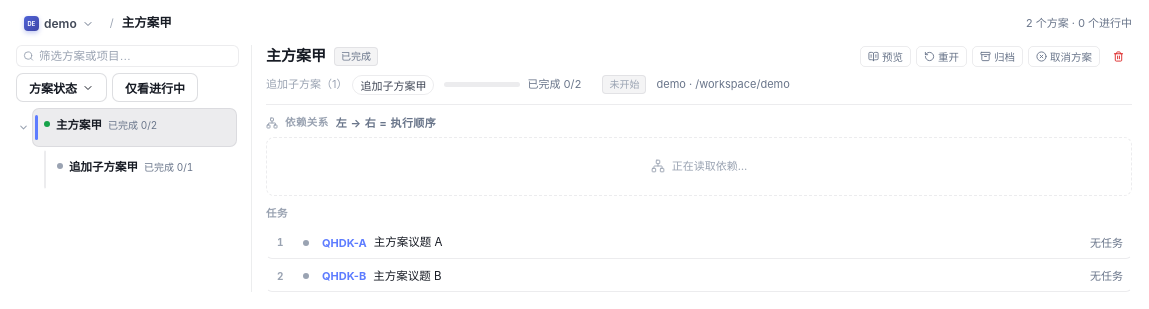
Test: PlanBoard — 追加子方案：缩进树与子树筛选 › 详情头部显示归属：子方案有「追加自 ↗ 主方案」，主方案有「追加子方案（1）」
This screenshot has width=1149, height=309.
Note: 默认自动选中「有任务在动」的方案；此处无任务，先点开子方案。
Step 1. Click the button "追加子方案甲 已完成 0/1" → (140, 170), box [44,150,237,189]
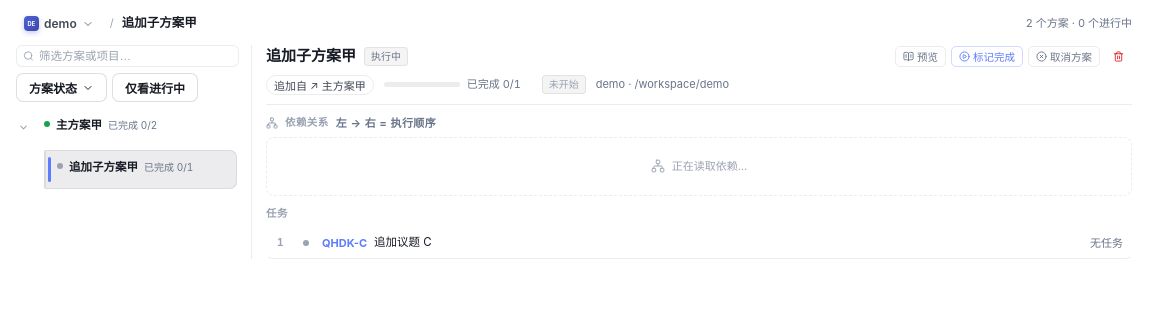
Now the button "追加自 ↗ 主方案甲" is shown, box [266,74,374,94]
